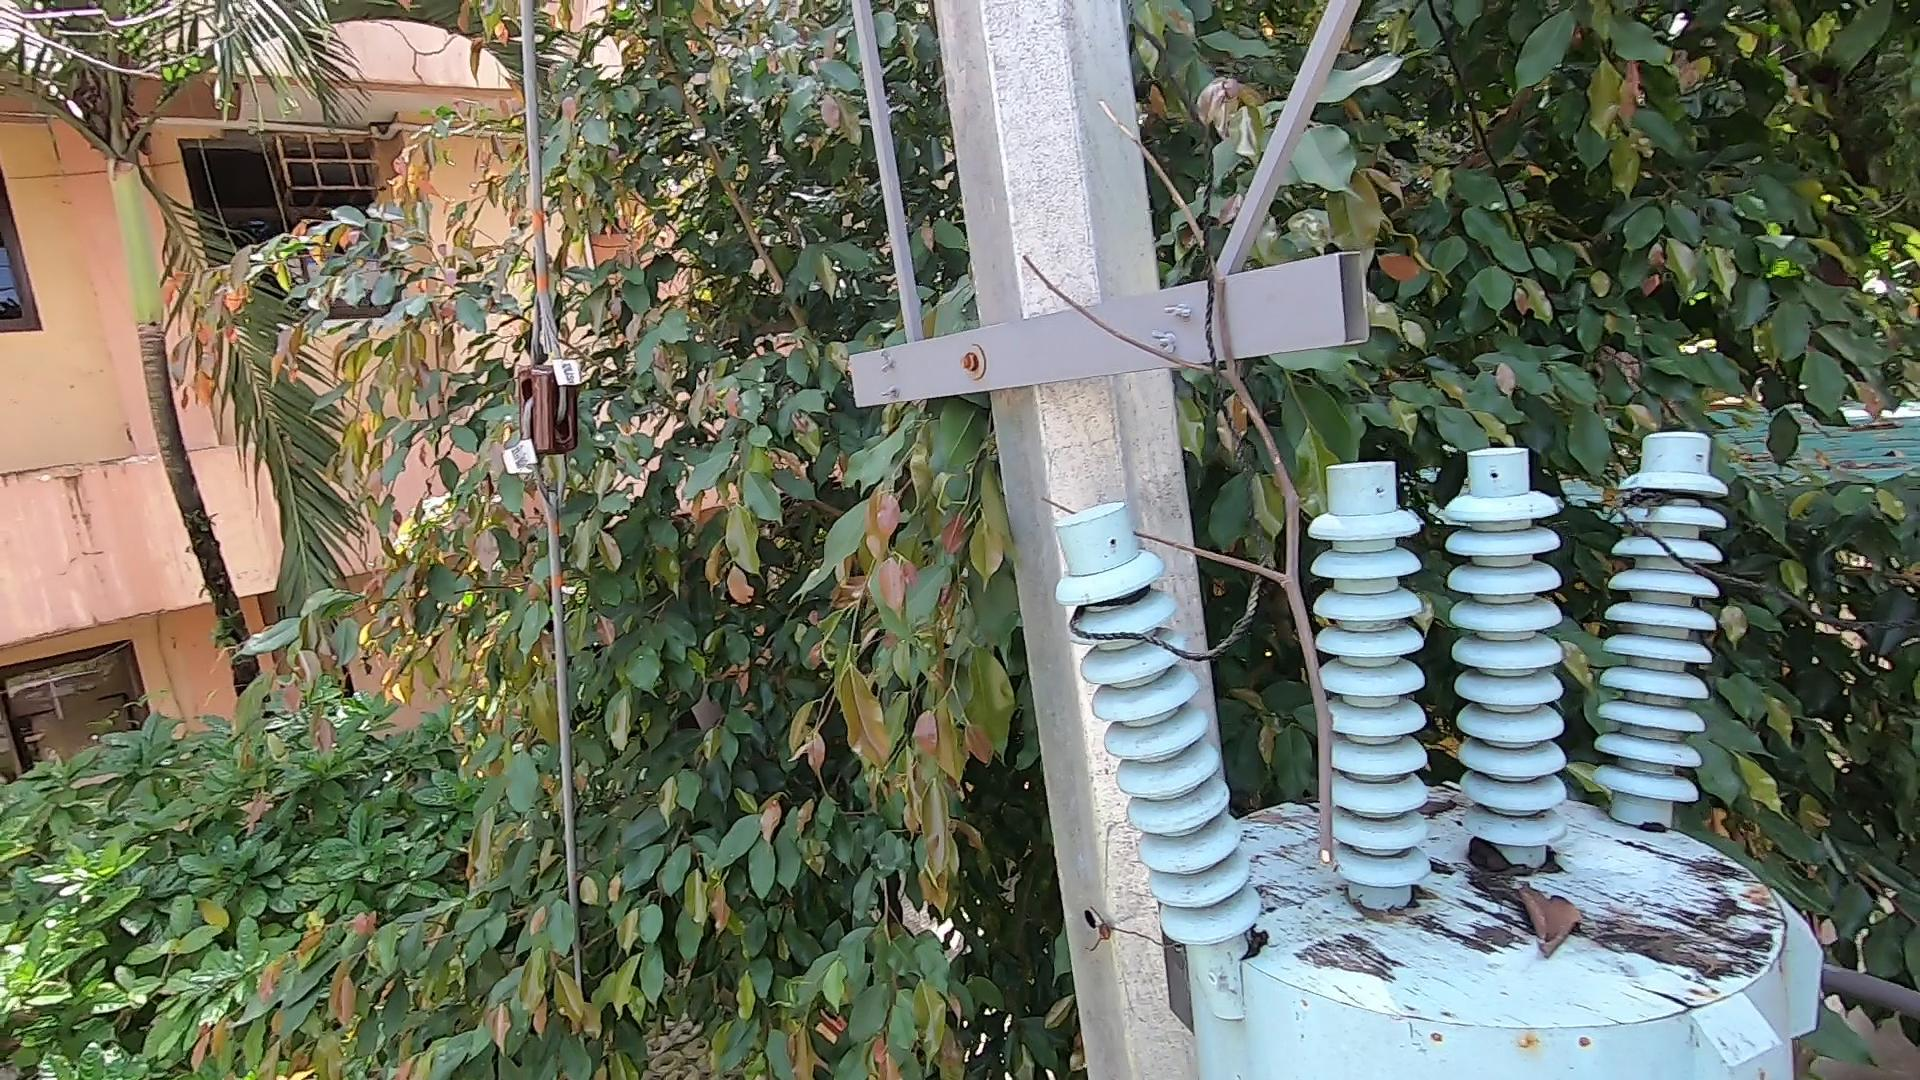leaf: (1501, 878, 1586, 964), (1472, 833, 1515, 889)
tree branch: (1017, 88, 1408, 878)
